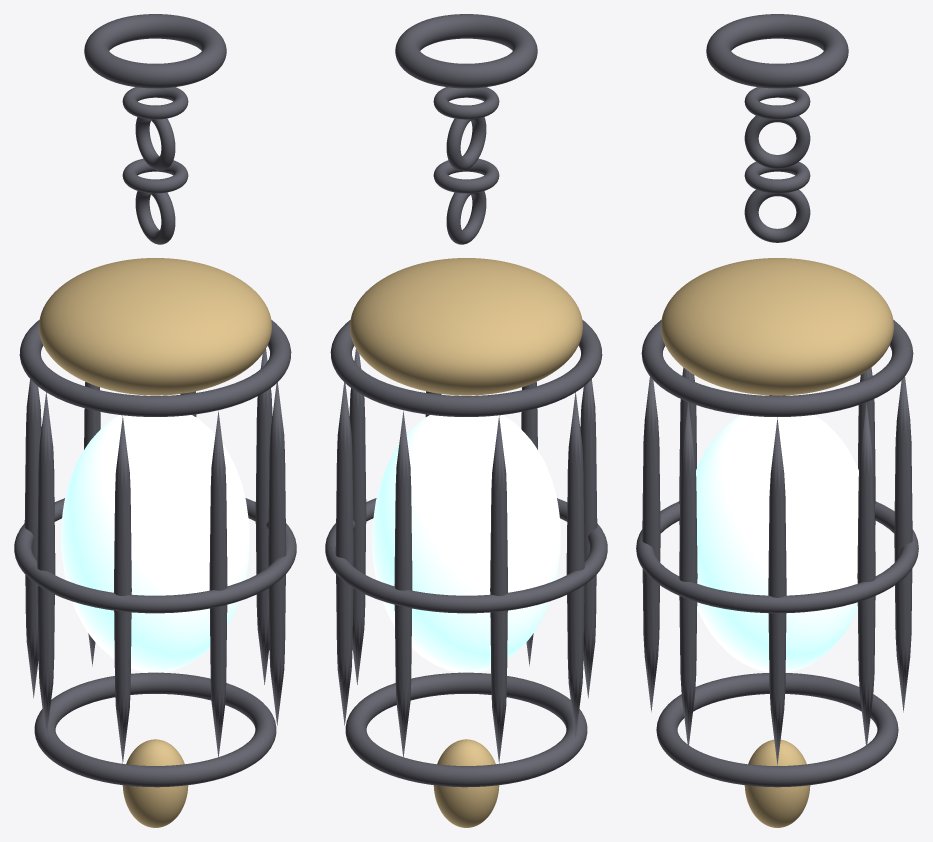
The model's file is soul_lantern.glb.
3 views of the same model, side by side, from view 1: azimuth 30°, elevation 25°; view 2: azimuth 150°, elevation 25°; view 3: azimuth 270°, elevation 25° (orthographic).
Parts seen in each view (by area): view 1: cage_bar_0, soul_gem, cage_cap, hang_ring, finial, chain_0, chain_1, chain_3, chain_2; view 2: cage_bar_0, soul_gem, cage_cap, hang_ring, finial, chain_0, chain_1, chain_3, chain_2; view 3: cage_bar_0, soul_gem, cage_cap, hang_ring, finial, chain_3, chain_1, chain_0, chain_2.
Boxes of the visible parts, x1,y1,x2,y2 form: cage_bar_0: (14, 320, 296, 787); soul_gem: (61, 415, 249, 672); cage_cap: (39, 258, 271, 395); hang_ring: (84, 14, 226, 88); finial: (122, 739, 188, 827); chain_0: (122, 87, 188, 119); chain_1: (135, 117, 175, 170); chain_3: (135, 191, 175, 244); chain_2: (122, 158, 188, 193); cage_bar_0: (325, 320, 607, 787); soul_gem: (372, 415, 560, 672); cage_cap: (350, 258, 582, 395); hang_ring: (395, 14, 537, 88); finial: (433, 739, 499, 827); chain_0: (433, 87, 499, 119); chain_1: (446, 117, 486, 170); chain_3: (446, 191, 486, 244); chain_2: (433, 158, 499, 193); cage_bar_0: (636, 320, 918, 787); soul_gem: (696, 415, 858, 672); cage_cap: (661, 258, 893, 395); hang_ring: (706, 14, 848, 88); finial: (744, 739, 810, 827); chain_3: (744, 189, 810, 242); chain_1: (744, 115, 810, 168); chain_0: (744, 87, 810, 119); chain_2: (744, 162, 810, 193).
Bounding box in the file's own units: 0.7628 × 2.34 × 0.7628.
